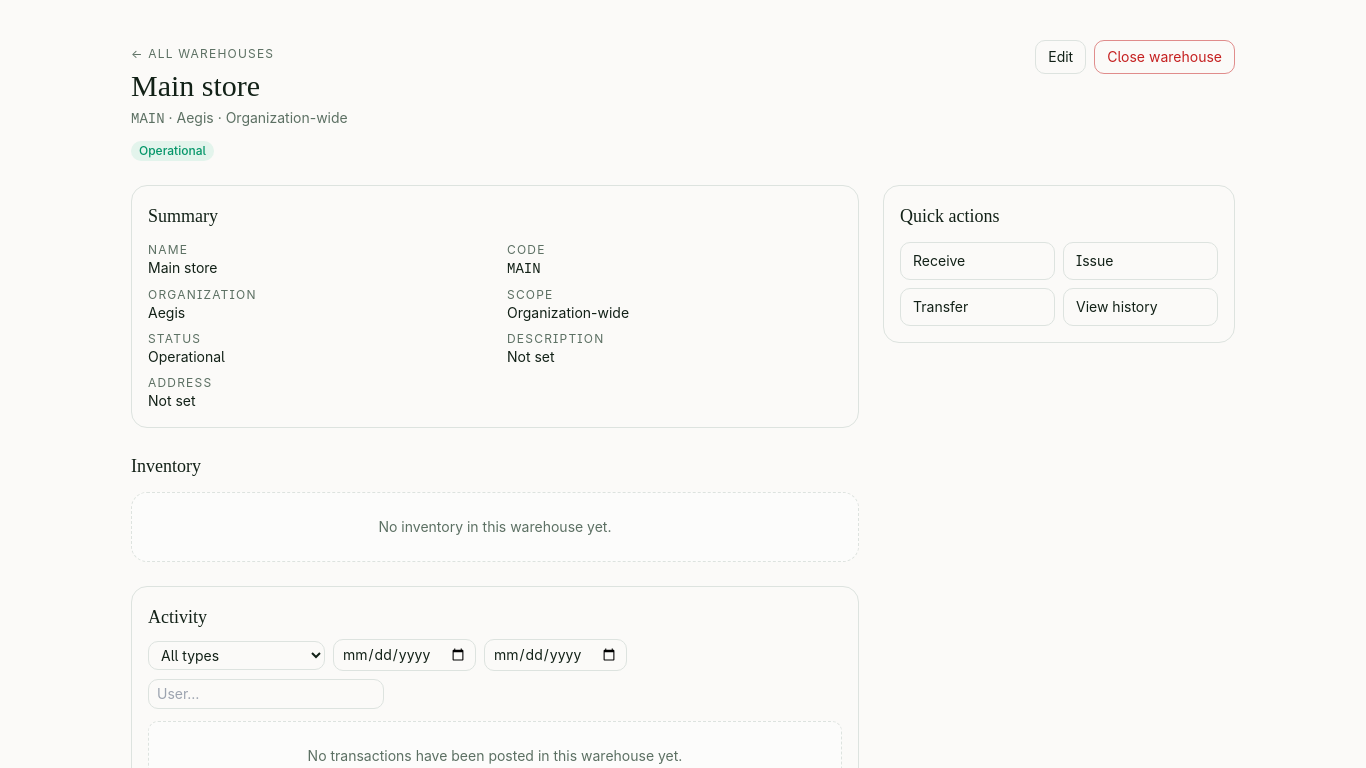
it: Warehouse edit / close / reopen › close flow: prompt confirmation, PATCH to closed, header shows Reopen
Click the button with test id "warehouse-header-close". click: x=1165, y=57
box: [1094, 40, 1235, 74]
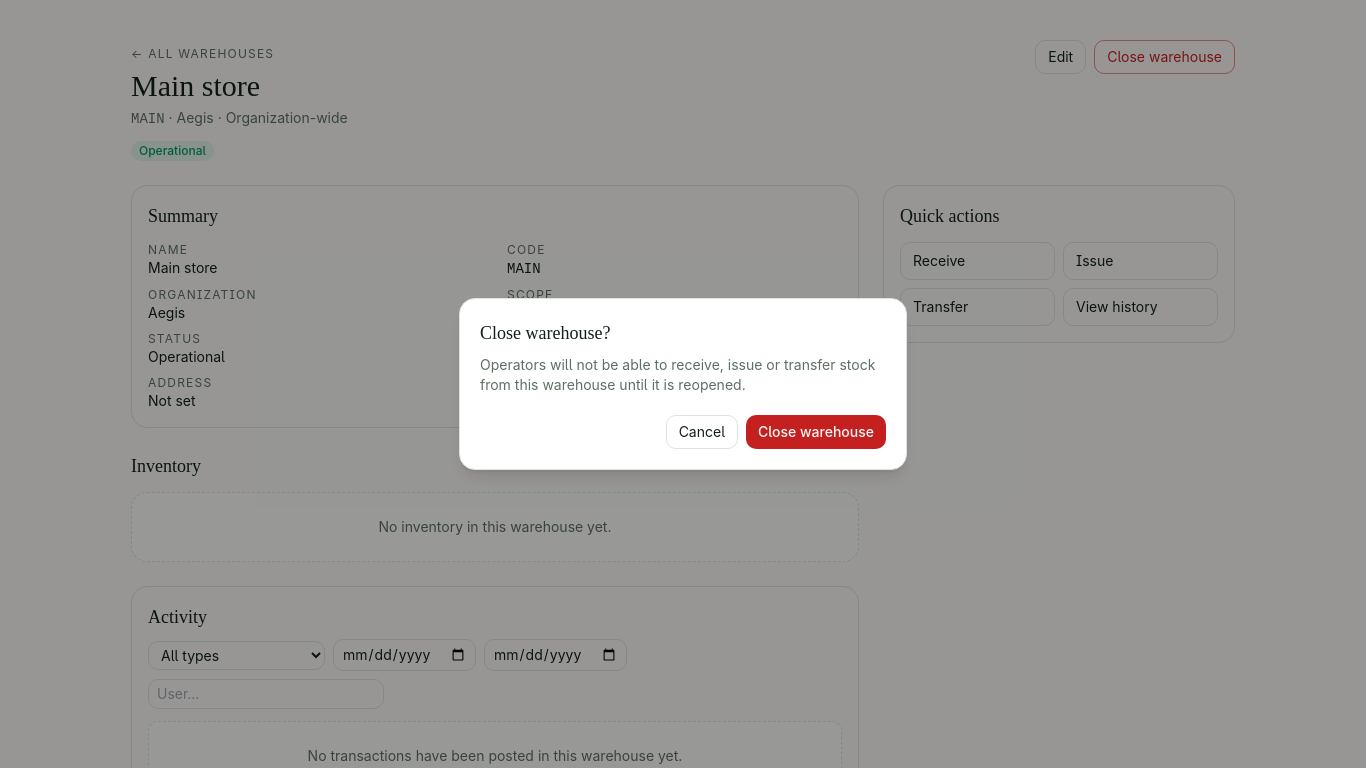
# Confirmation dialog appears.
Click the button with test id "warehouse-detail-status-confirm-confirm". click: x=816, y=432
box: [746, 415, 886, 449]
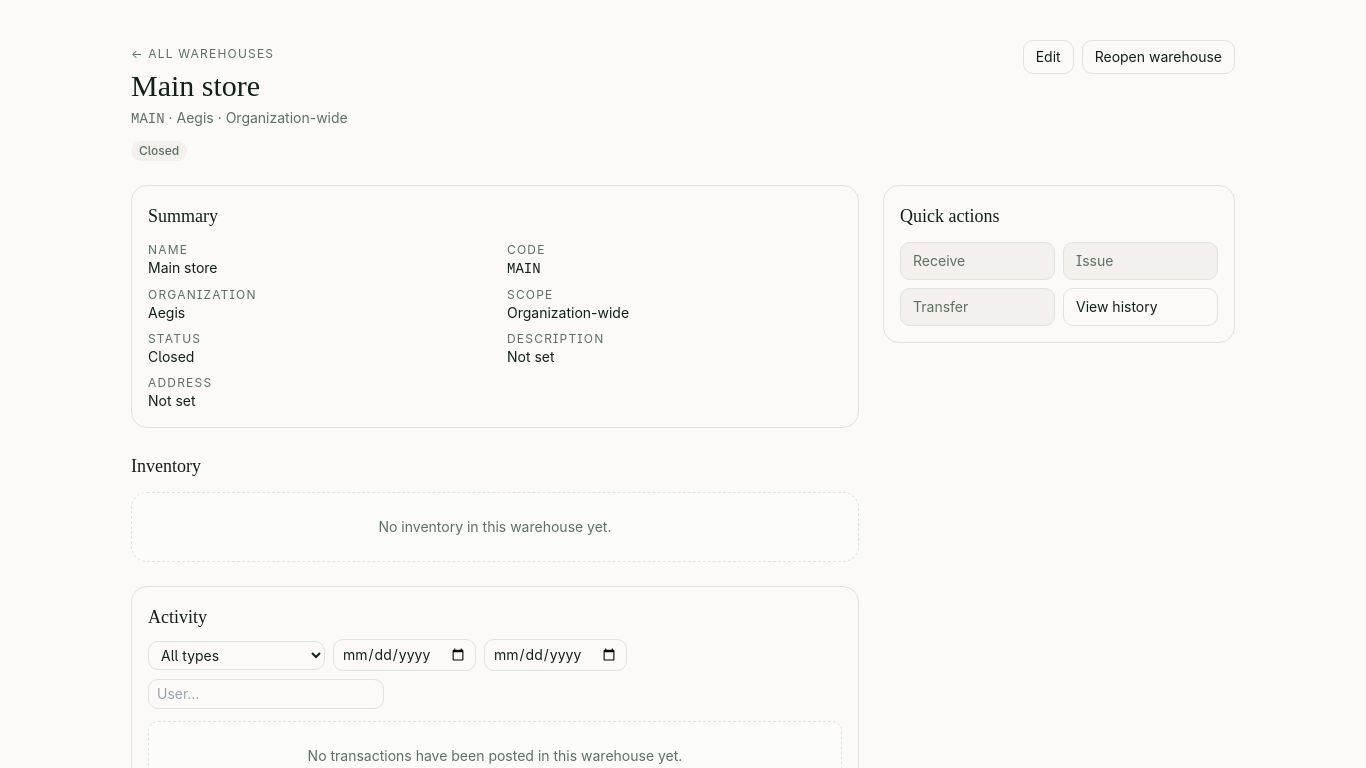
Check: the button with test id "warehouse-header-reopen" is shown, box [1082, 40, 1235, 74]
